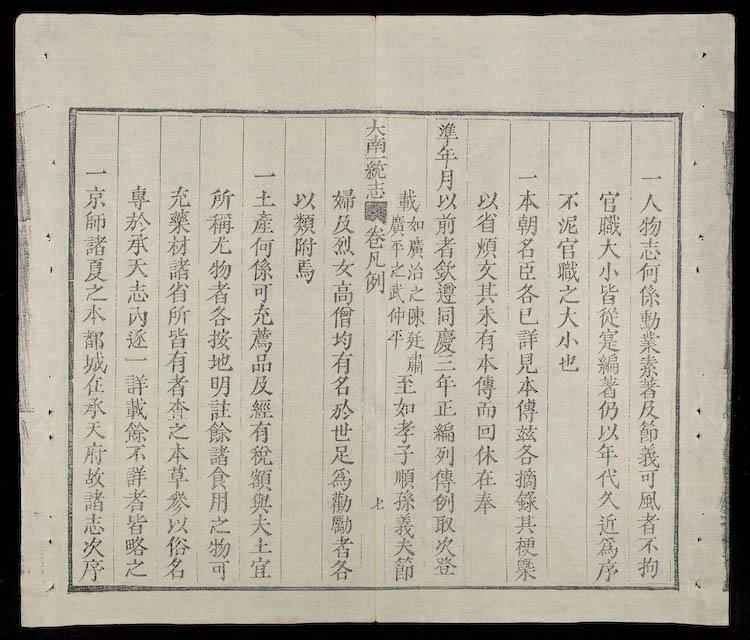c: (431, 327, 458, 354), (165, 208, 193, 234), (470, 489, 499, 514), (246, 326, 275, 351), (394, 186, 421, 212), (125, 183, 152, 209), (124, 279, 152, 304), (635, 442, 663, 467), (122, 395, 150, 420), (471, 327, 499, 352), (634, 510, 663, 534), (78, 557, 107, 581), (204, 420, 234, 443), (82, 257, 109, 282), (390, 512, 417, 537), (595, 328, 622, 353), (82, 184, 109, 209), (330, 186, 357, 211), (513, 397, 540, 422), (250, 210, 277, 235), (164, 489, 191, 514), (166, 184, 193, 209), (327, 466, 355, 490), (205, 466, 233, 490), (636, 237, 664, 261), (121, 488, 149, 512), (205, 280, 233, 304), (122, 372, 150, 396), (121, 464, 149, 488), (471, 374, 499, 398), (595, 213, 623, 237), (207, 186, 235, 210), (290, 212, 318, 236), (592, 558, 621, 581), (205, 327, 234, 350), (80, 351, 109, 374), (206, 212, 235, 235), (292, 258, 317, 284), (391, 556, 417, 581), (165, 257, 192, 281), (594, 441, 621, 465), (594, 511, 621, 535), (430, 467, 457, 491), (248, 302, 275, 326), (164, 464, 191, 488), (80, 488, 107, 512), (163, 349, 190, 373), (81, 441, 108, 465), (206, 373, 233, 397), (514, 187, 541, 211), (636, 330, 663, 354), (636, 283, 663, 307), (328, 350, 355, 374), (329, 304, 356, 328), (432, 144, 460, 167), (512, 488, 540, 511), (511, 557, 539, 580), (328, 442, 356, 465), (123, 232, 151, 255), (81, 233, 109, 256), (431, 259, 459, 282), (634, 555, 662, 578), (246, 556, 274, 579), (246, 491, 274, 514), (246, 443, 274, 466), (123, 256, 151, 279), (636, 214, 664, 237), (246, 467, 274, 490), (247, 258, 275, 281), (123, 210, 152, 232), (330, 279, 355, 304), (329, 534, 355, 558), (596, 189, 622, 213), (432, 372, 458, 396), (164, 373, 190, 397), (514, 351, 540, 375), (80, 327, 107, 350), (512, 442, 539, 465), (328, 397, 355, 420), (124, 327, 151, 350), (122, 420, 149, 443), (473, 281, 500, 304), (473, 211, 500, 234), (327, 490, 354, 513), (430, 420, 457, 443), (391, 489, 418, 512), (81, 302, 108, 325), (512, 466, 539, 489), (362, 158, 389, 181), (595, 305, 622, 328), (473, 236, 500, 259), (554, 213, 581, 236), (594, 466, 622, 488), (79, 535, 107, 557), (246, 514, 274, 536), (204, 444, 232, 466), (79, 512, 107, 534), (472, 443, 500, 465), (290, 188, 318, 210), (246, 420, 274, 442), (247, 397, 275, 419), (594, 353, 622, 375), (205, 351, 234, 372), (433, 212, 458, 236), (514, 327, 540, 350), (391, 395, 417, 418), (391, 466, 417, 489), (165, 234, 191, 257), (594, 535, 620, 558), (595, 375, 621, 398), (391, 418, 417, 441), (328, 558, 354, 581), (432, 236, 458, 259), (555, 237, 581, 260), (555, 305, 581, 328), (555, 260, 581, 283), (514, 213, 540, 236), (122, 512, 149, 534), (433, 121, 460, 143), (512, 512, 539, 534), (81, 396, 108, 418), (162, 557, 189, 579), (164, 398, 191, 420), (164, 442, 191, 464), (206, 398, 233, 420), (206, 258, 233, 280), (164, 281, 191, 303), (474, 189, 501, 211), (471, 467, 498, 489), (164, 534, 191, 556), (636, 261, 663, 283), (473, 259, 500, 281), (555, 189, 582, 211), (205, 536, 232, 558), (204, 559, 232, 580), (472, 352, 500, 373), (248, 236, 276, 257), (363, 225, 387, 249), (391, 442, 416, 465), (596, 282, 621, 305), (635, 419, 661, 441), (431, 534, 457, 556), (595, 398, 621, 420), (555, 351, 581, 373), (638, 191, 664, 213), (635, 355, 661, 377), (473, 305, 499, 327), (596, 237, 622, 259), (514, 282, 540, 304), (165, 304, 191, 326), (433, 282, 459, 304), (636, 376, 662, 398), (81, 466, 107, 488), (248, 351, 274, 373), (248, 374, 274, 396), (595, 260, 621, 282), (82, 210, 108, 232), (124, 305, 150, 327), (291, 236, 317, 258), (512, 535, 539, 556), (513, 422, 540, 443), (207, 235, 234, 256), (81, 374, 108, 395), (554, 329, 581, 350), (634, 489, 662, 509), (594, 488, 622, 508), (434, 168, 458, 191), (363, 270, 386, 294), (206, 491, 231, 513), (637, 308, 662, 330), (431, 444, 456, 466), (556, 283, 581, 305), (636, 398, 661, 420), (165, 327, 190, 349), (393, 373, 418, 395), (207, 305, 232, 327), (595, 420, 621, 441), (431, 513, 457, 534), (122, 535, 148, 556), (122, 557, 148, 578), (206, 514, 232, 535), (514, 375, 540, 396), (251, 188, 277, 209), (634, 534, 661, 554), (403, 351, 426, 374), (329, 374, 353, 396), (331, 212, 355, 234), (330, 257, 355, 278), (635, 467, 660, 488), (329, 513, 354, 534), (164, 514, 190, 534), (329, 421, 355, 441), (123, 443, 149, 463), (81, 419, 107, 439), (430, 492, 456, 512), (434, 305, 457, 327), (515, 237, 538, 259), (331, 235, 355, 256), (330, 329, 355, 349), (249, 282, 274, 302), (434, 191, 459, 211), (473, 399, 498, 419), (432, 398, 457, 418), (473, 421, 498, 441), (165, 421, 190, 441), (431, 556, 457, 575), (432, 353, 458, 372), (82, 283, 108, 302), (247, 536, 273, 555), (405, 305, 427, 327), (516, 259, 538, 281), (406, 236, 427, 259), (516, 305, 539, 326), (637, 170, 665, 187), (363, 137, 388, 156), (363, 118, 388, 137), (391, 537, 416, 556), (404, 329, 426, 350), (363, 181, 387, 200), (385, 327, 405, 349), (252, 166, 279, 182), (123, 351, 150, 367), (405, 261, 426, 281), (386, 305, 407, 325), (388, 214, 407, 236), (83, 165, 110, 180), (405, 215, 426, 234), (406, 284, 427, 303), (387, 282, 406, 303), (364, 250, 386, 268), (516, 170, 541, 184), (388, 260, 406, 279), (389, 238, 406, 258), (369, 493, 386, 511)
